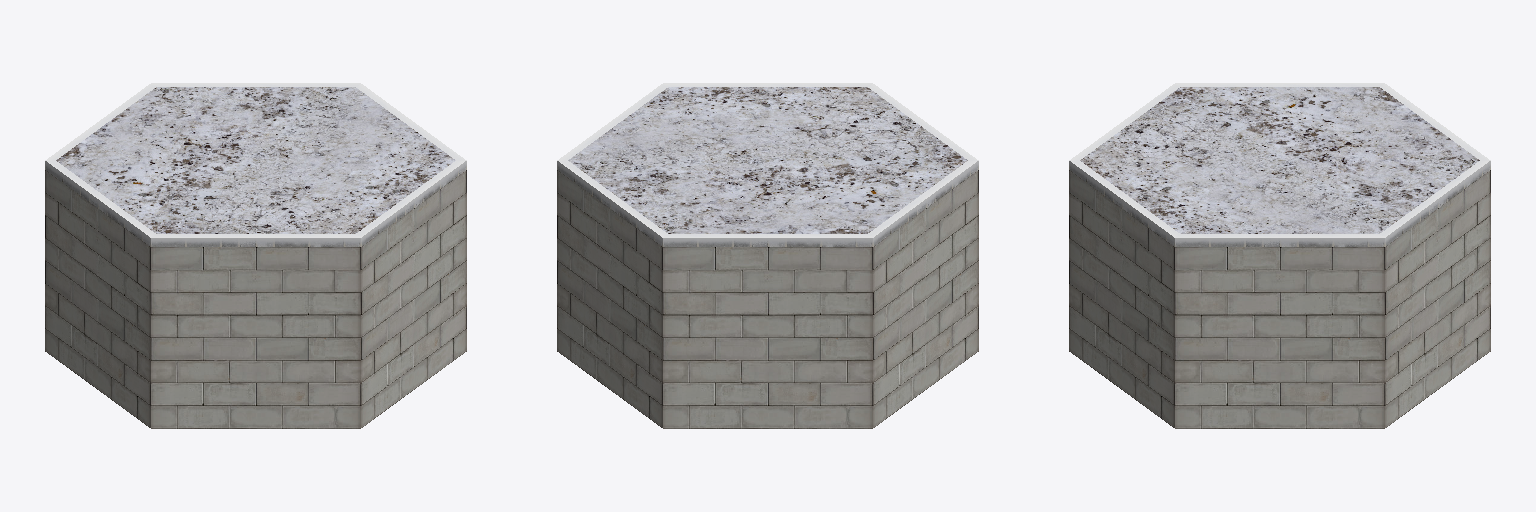
The picture shows the model from 3 angles: view 1: azimuth 30°, elevation 25°; view 2: azimuth 150°, elevation 25°; view 3: azimuth 270°, elevation 25°; orthographic projection.
Parts seen in each view (by area): view 1: hex_pillar; view 2: hex_pillar; view 3: hex_pillar.
Boxes of the visible parts, x1,y1,x2,y2 form: hex_pillar: [45, 83, 466, 428]; hex_pillar: [557, 83, 978, 428]; hex_pillar: [1069, 83, 1490, 428].
Bounding box in the file's own units: 1.73 × 1 × 2.
Materials: 1 (1 with a texture image).